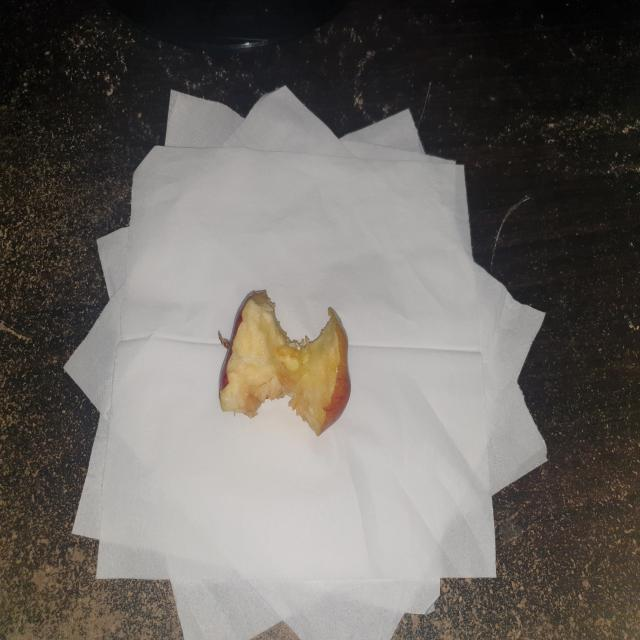apple: (206, 280, 356, 450)
